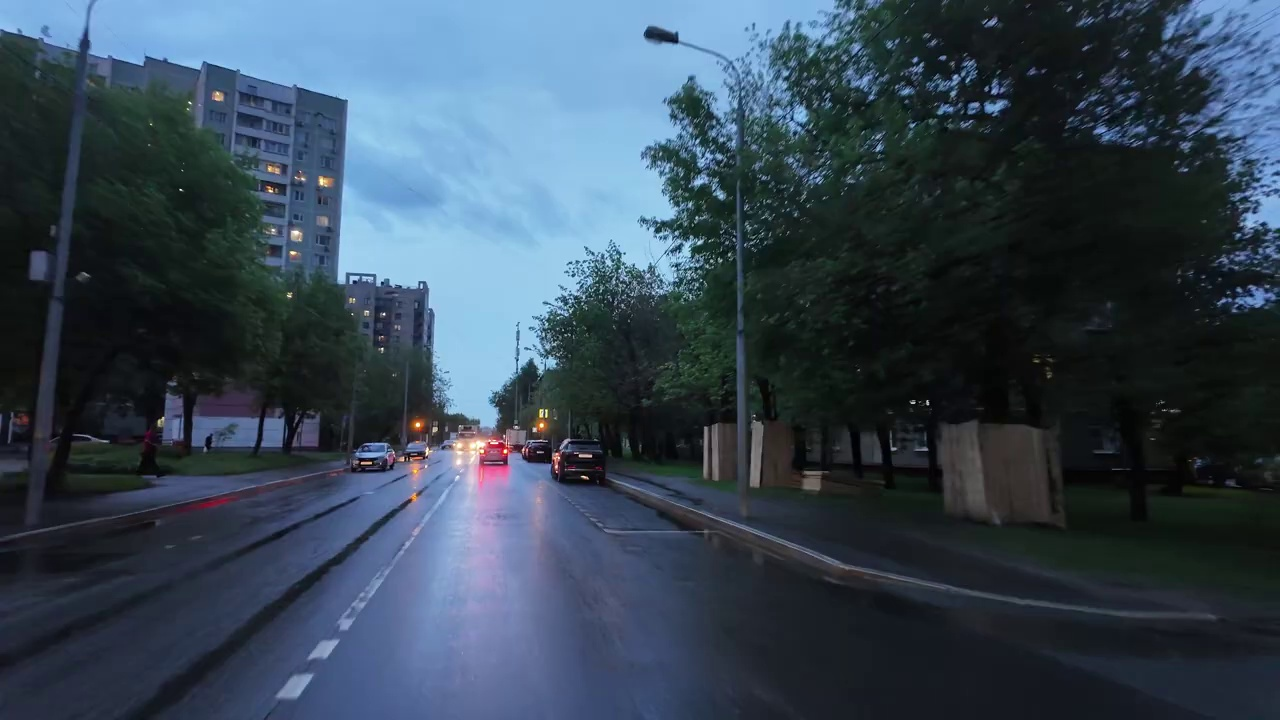apagada: (640, 23, 680, 49)
